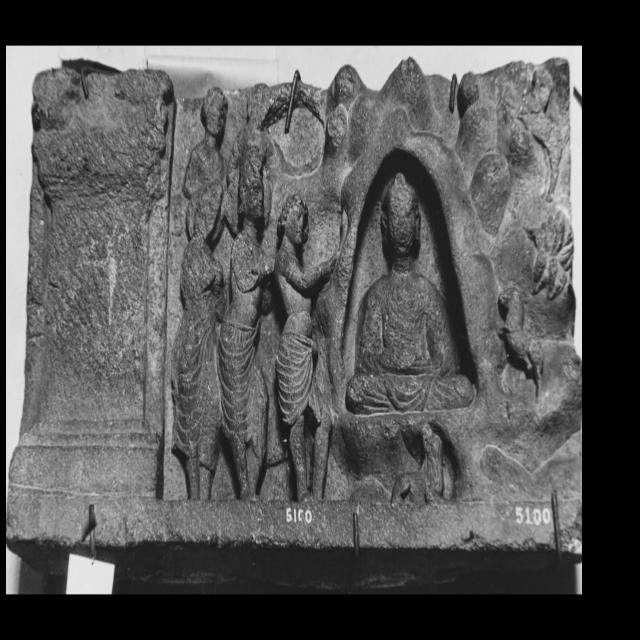buddha-sitting: (346, 174, 474, 414)
